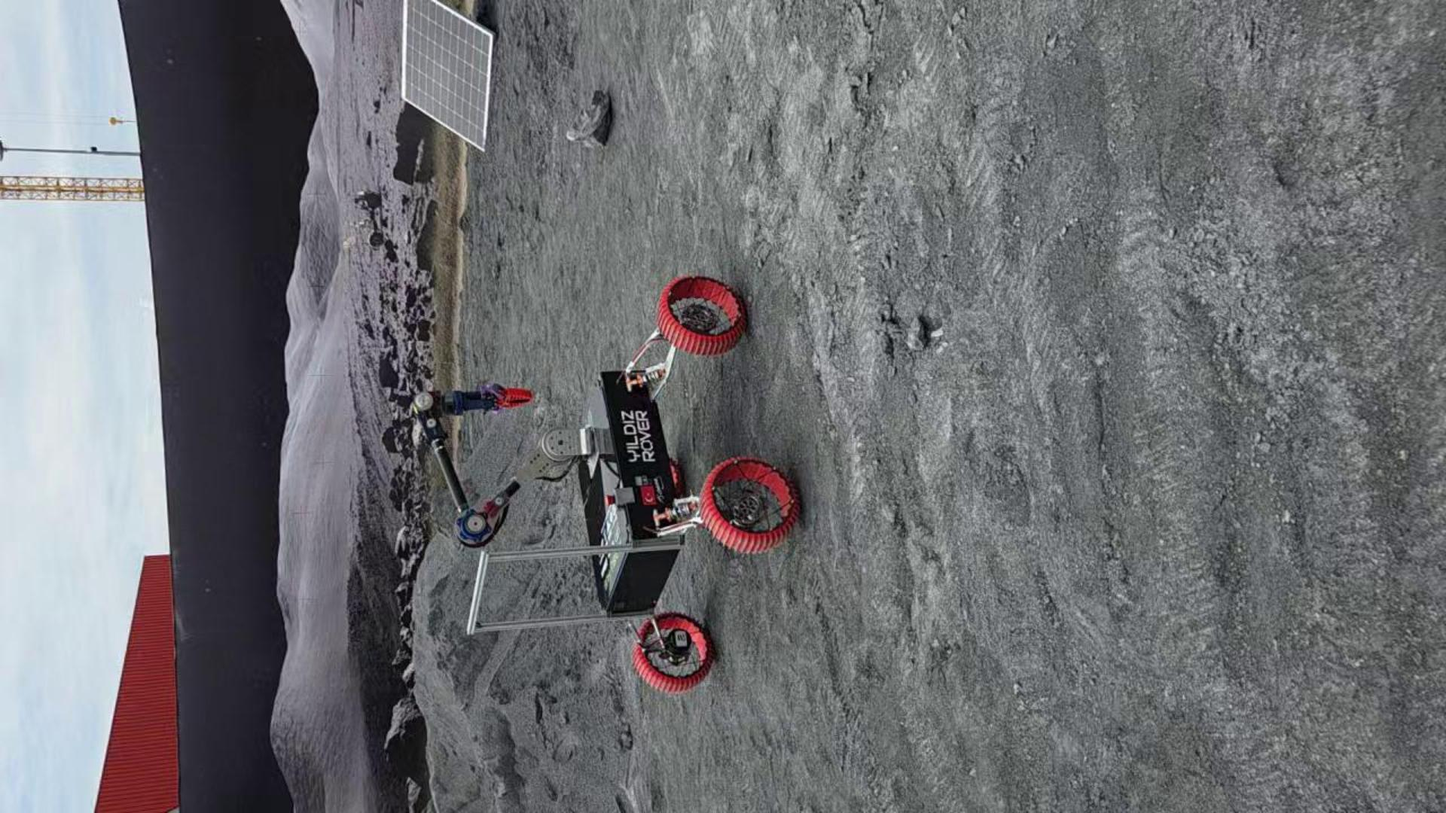rock: (565, 91, 612, 146)
